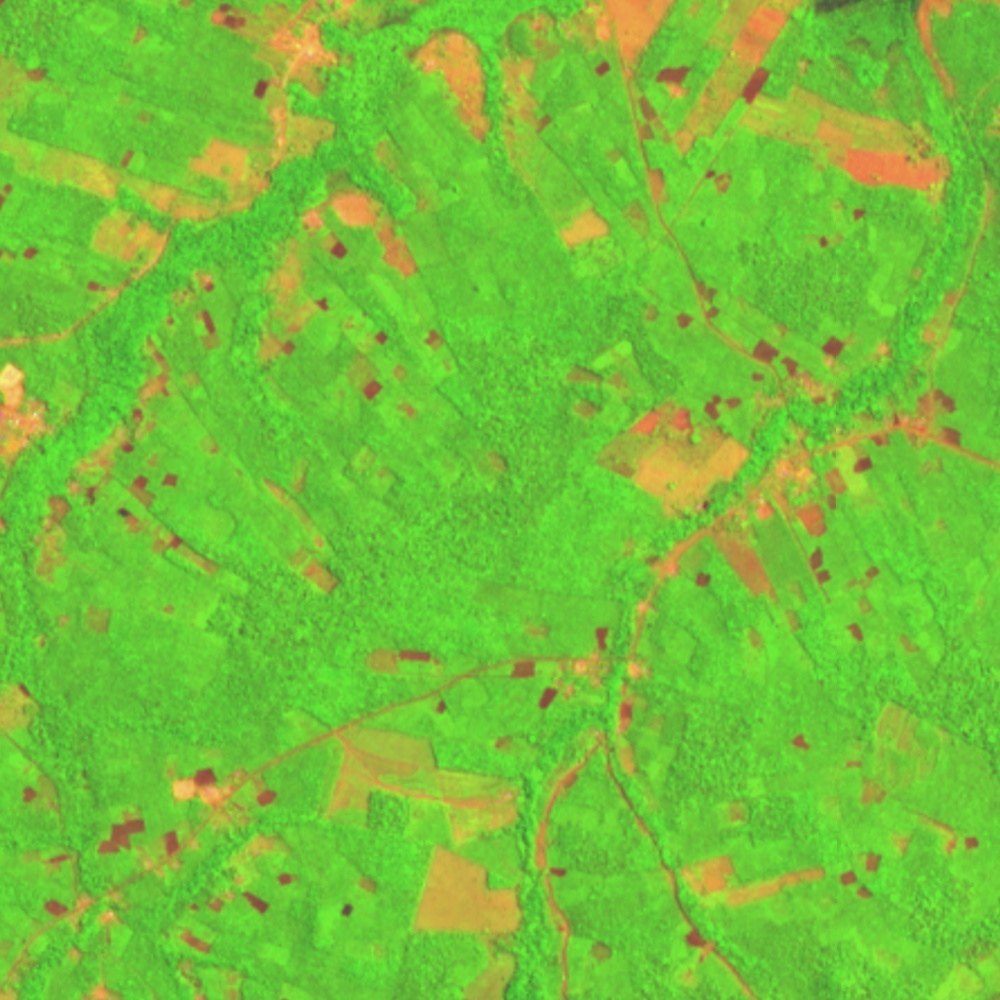legal: (1, 765, 295, 1000), (708, 331, 897, 635), (254, 170, 443, 368), (30, 337, 175, 581), (565, 362, 749, 529), (737, 77, 958, 199), (324, 721, 522, 847), (1, 126, 224, 229), (843, 700, 989, 856), (201, 1, 431, 100), (512, 619, 645, 778), (674, 1, 802, 161), (410, 844, 526, 1000), (560, 1, 675, 158), (198, 105, 342, 201), (519, 162, 673, 246), (1, 359, 92, 501), (398, 25, 495, 146), (114, 471, 224, 576), (263, 458, 342, 598), (78, 207, 178, 302), (677, 853, 826, 910), (34, 601, 177, 651), (1, 50, 49, 186), (888, 389, 964, 457), (621, 540, 714, 589), (164, 270, 220, 349), (645, 280, 723, 336), (799, 196, 873, 254), (349, 362, 419, 421), (564, 4, 616, 80), (843, 562, 887, 645), (1, 182, 40, 266), (920, 284, 965, 352), (363, 645, 445, 682), (684, 928, 727, 986), (1, 683, 50, 733), (841, 850, 887, 902), (336, 877, 383, 924), (353, 442, 402, 485), (180, 365, 210, 405), (741, 619, 774, 653), (719, 795, 755, 826), (693, 168, 733, 194), (189, 431, 220, 457), (584, 941, 616, 965), (126, 19, 149, 51), (485, 449, 511, 477), (898, 634, 926, 657), (547, 862, 569, 883), (793, 734, 813, 753), (1, 513, 12, 541)
